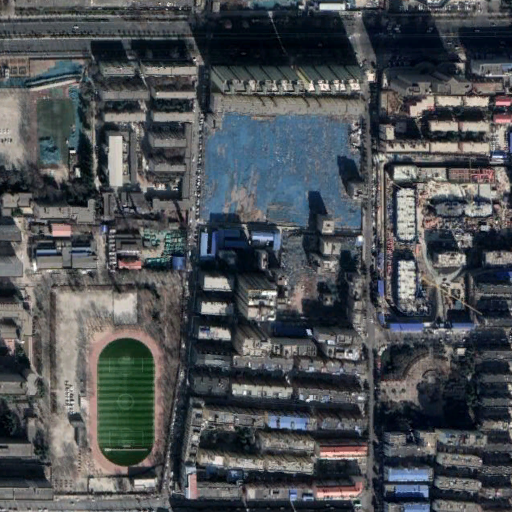cw: (204, 115, 364, 230)
